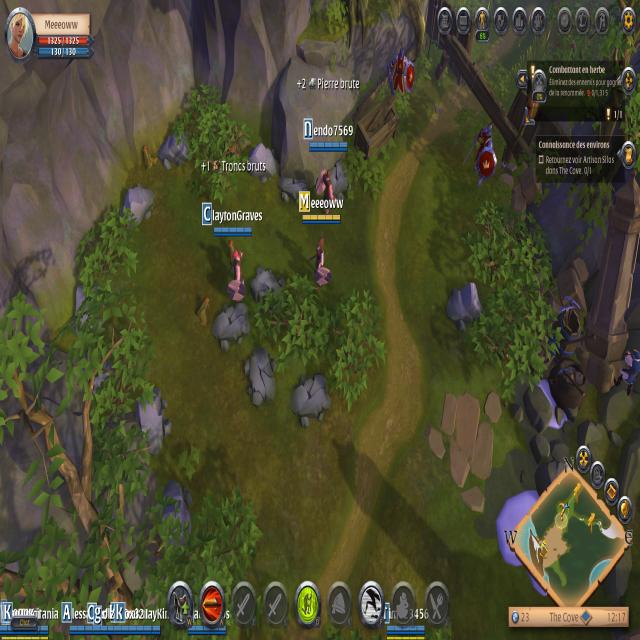broken stone: (288, 371, 331, 433), (243, 346, 280, 412), (209, 298, 252, 351), (250, 259, 289, 316), (320, 152, 356, 205), (277, 166, 309, 212)
stone: (444, 274, 487, 336), (136, 384, 172, 456), (161, 475, 193, 554), (157, 120, 193, 175), (118, 181, 156, 231), (245, 140, 280, 187)
